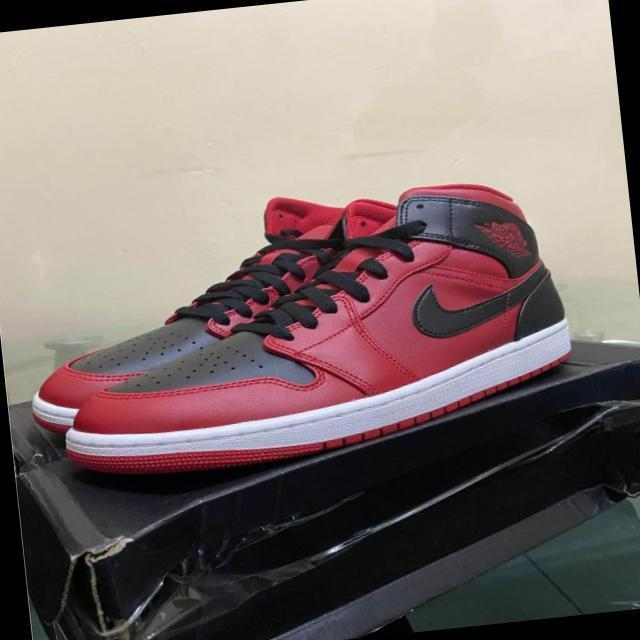nike original jordan 1: (35, 168, 585, 490), (10, 183, 418, 437)
